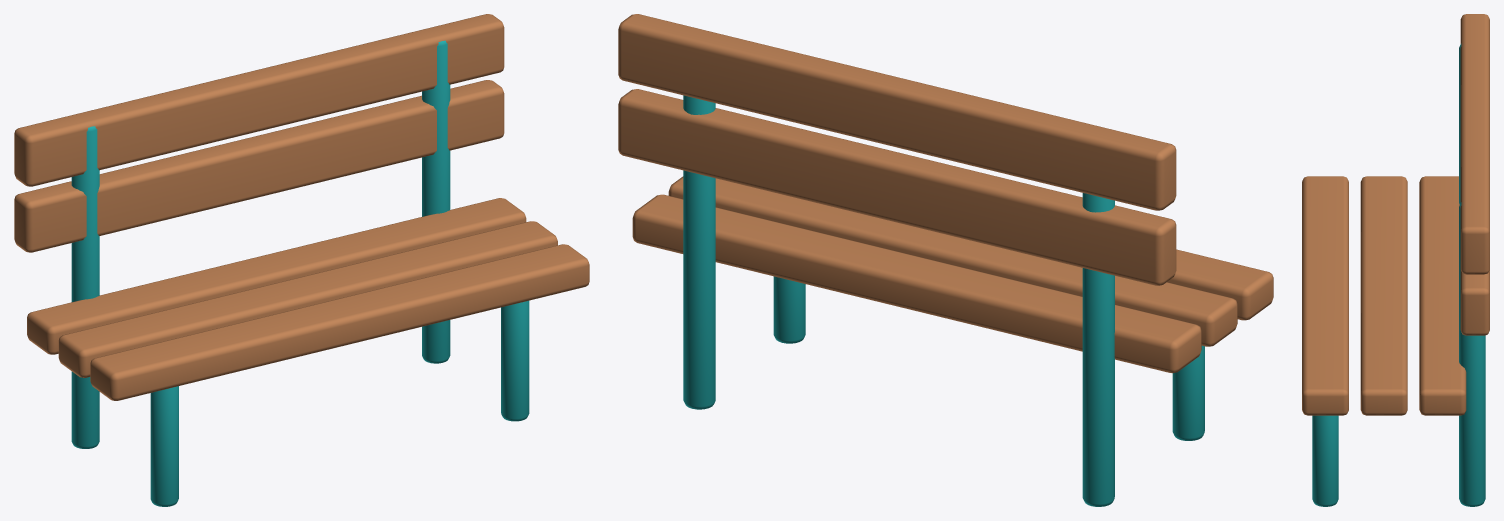
File: Bench.fbx
3 renders of one model, left to right at view 1: azimuth 30°, elevation 25°; view 2: azimuth 150°, elevation 25°; view 3: azimuth 270°, elevation 25°, orthographic. The views are drawn at different scales.
Visible parts, largest first — view 1: GEO-BackSlat.001, GEO-BackSlat, GEO-SeatSlat, GEO-SeatSlat.001, GEO-SeatSlat.002, GEO-BenchBack, GEO-BenchBack.001, GEO-BenchLeg.001, GEO-BenchLeg; view 2: GEO-BackSlat.001, GEO-BackSlat, GEO-SeatSlat.002, GEO-SeatSlat.001, GEO-BenchBack, GEO-BenchBack.001, GEO-SeatSlat, GEO-BenchLeg, GEO-BenchLeg.001; view 3: GEO-SeatSlat.001, GEO-SeatSlat, GEO-SeatSlat.002, GEO-BackSlat.001, GEO-BenchBack.001, GEO-BenchLeg.001, GEO-BackSlat, GEO-BenchBack.
Part boxes in pixels (bbox=[...]): GEO-BackSlat.001: bbox=[14, 14, 504, 186]; GEO-BackSlat: bbox=[14, 80, 504, 252]; GEO-SeatSlat: bbox=[90, 244, 589, 400]; GEO-SeatSlat.001: bbox=[58, 221, 557, 377]; GEO-SeatSlat.002: bbox=[27, 198, 526, 354]; GEO-BenchBack: bbox=[71, 126, 99, 448]; GEO-BenchBack.001: bbox=[422, 40, 450, 363]; GEO-BenchLeg.001: bbox=[501, 300, 529, 421]; GEO-BenchLeg: bbox=[150, 386, 178, 506]; GEO-BackSlat.001: bbox=[618, 14, 1176, 210]; GEO-BackSlat: bbox=[618, 89, 1176, 285]; GEO-SeatSlat.002: bbox=[632, 194, 1201, 373]; GEO-SeatSlat.001: bbox=[668, 176, 1237, 346]; GEO-BenchBack: bbox=[1082, 193, 1114, 506]; GEO-BenchBack.001: bbox=[683, 95, 715, 409]; GEO-SeatSlat: bbox=[1167, 249, 1273, 320]; GEO-BenchLeg: bbox=[1172, 345, 1204, 440]; GEO-BenchLeg.001: bbox=[773, 276, 805, 343]; GEO-SeatSlat.001: bbox=[1360, 176, 1407, 415]; GEO-SeatSlat: bbox=[1302, 176, 1348, 415]; GEO-SeatSlat.002: bbox=[1419, 176, 1466, 415]; GEO-BackSlat.001: bbox=[1460, 14, 1489, 274]; GEO-BenchBack.001: bbox=[1459, 202, 1485, 506]; GEO-BenchLeg.001: bbox=[1312, 415, 1338, 506]; GEO-BackSlat: bbox=[1460, 269, 1489, 335]; GEO-BenchBack: bbox=[1459, 43, 1461, 204].
Bounding box in the file's own units: 1.75 × 1.14 × 0.64.
